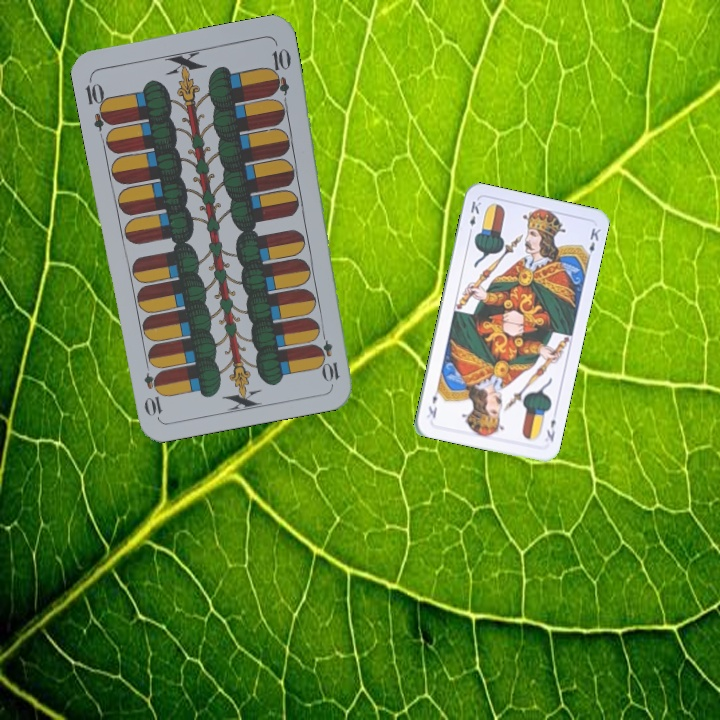E10: (81, 74, 115, 133), (315, 325, 342, 384)
EK: (465, 197, 484, 237), (542, 415, 558, 444)
